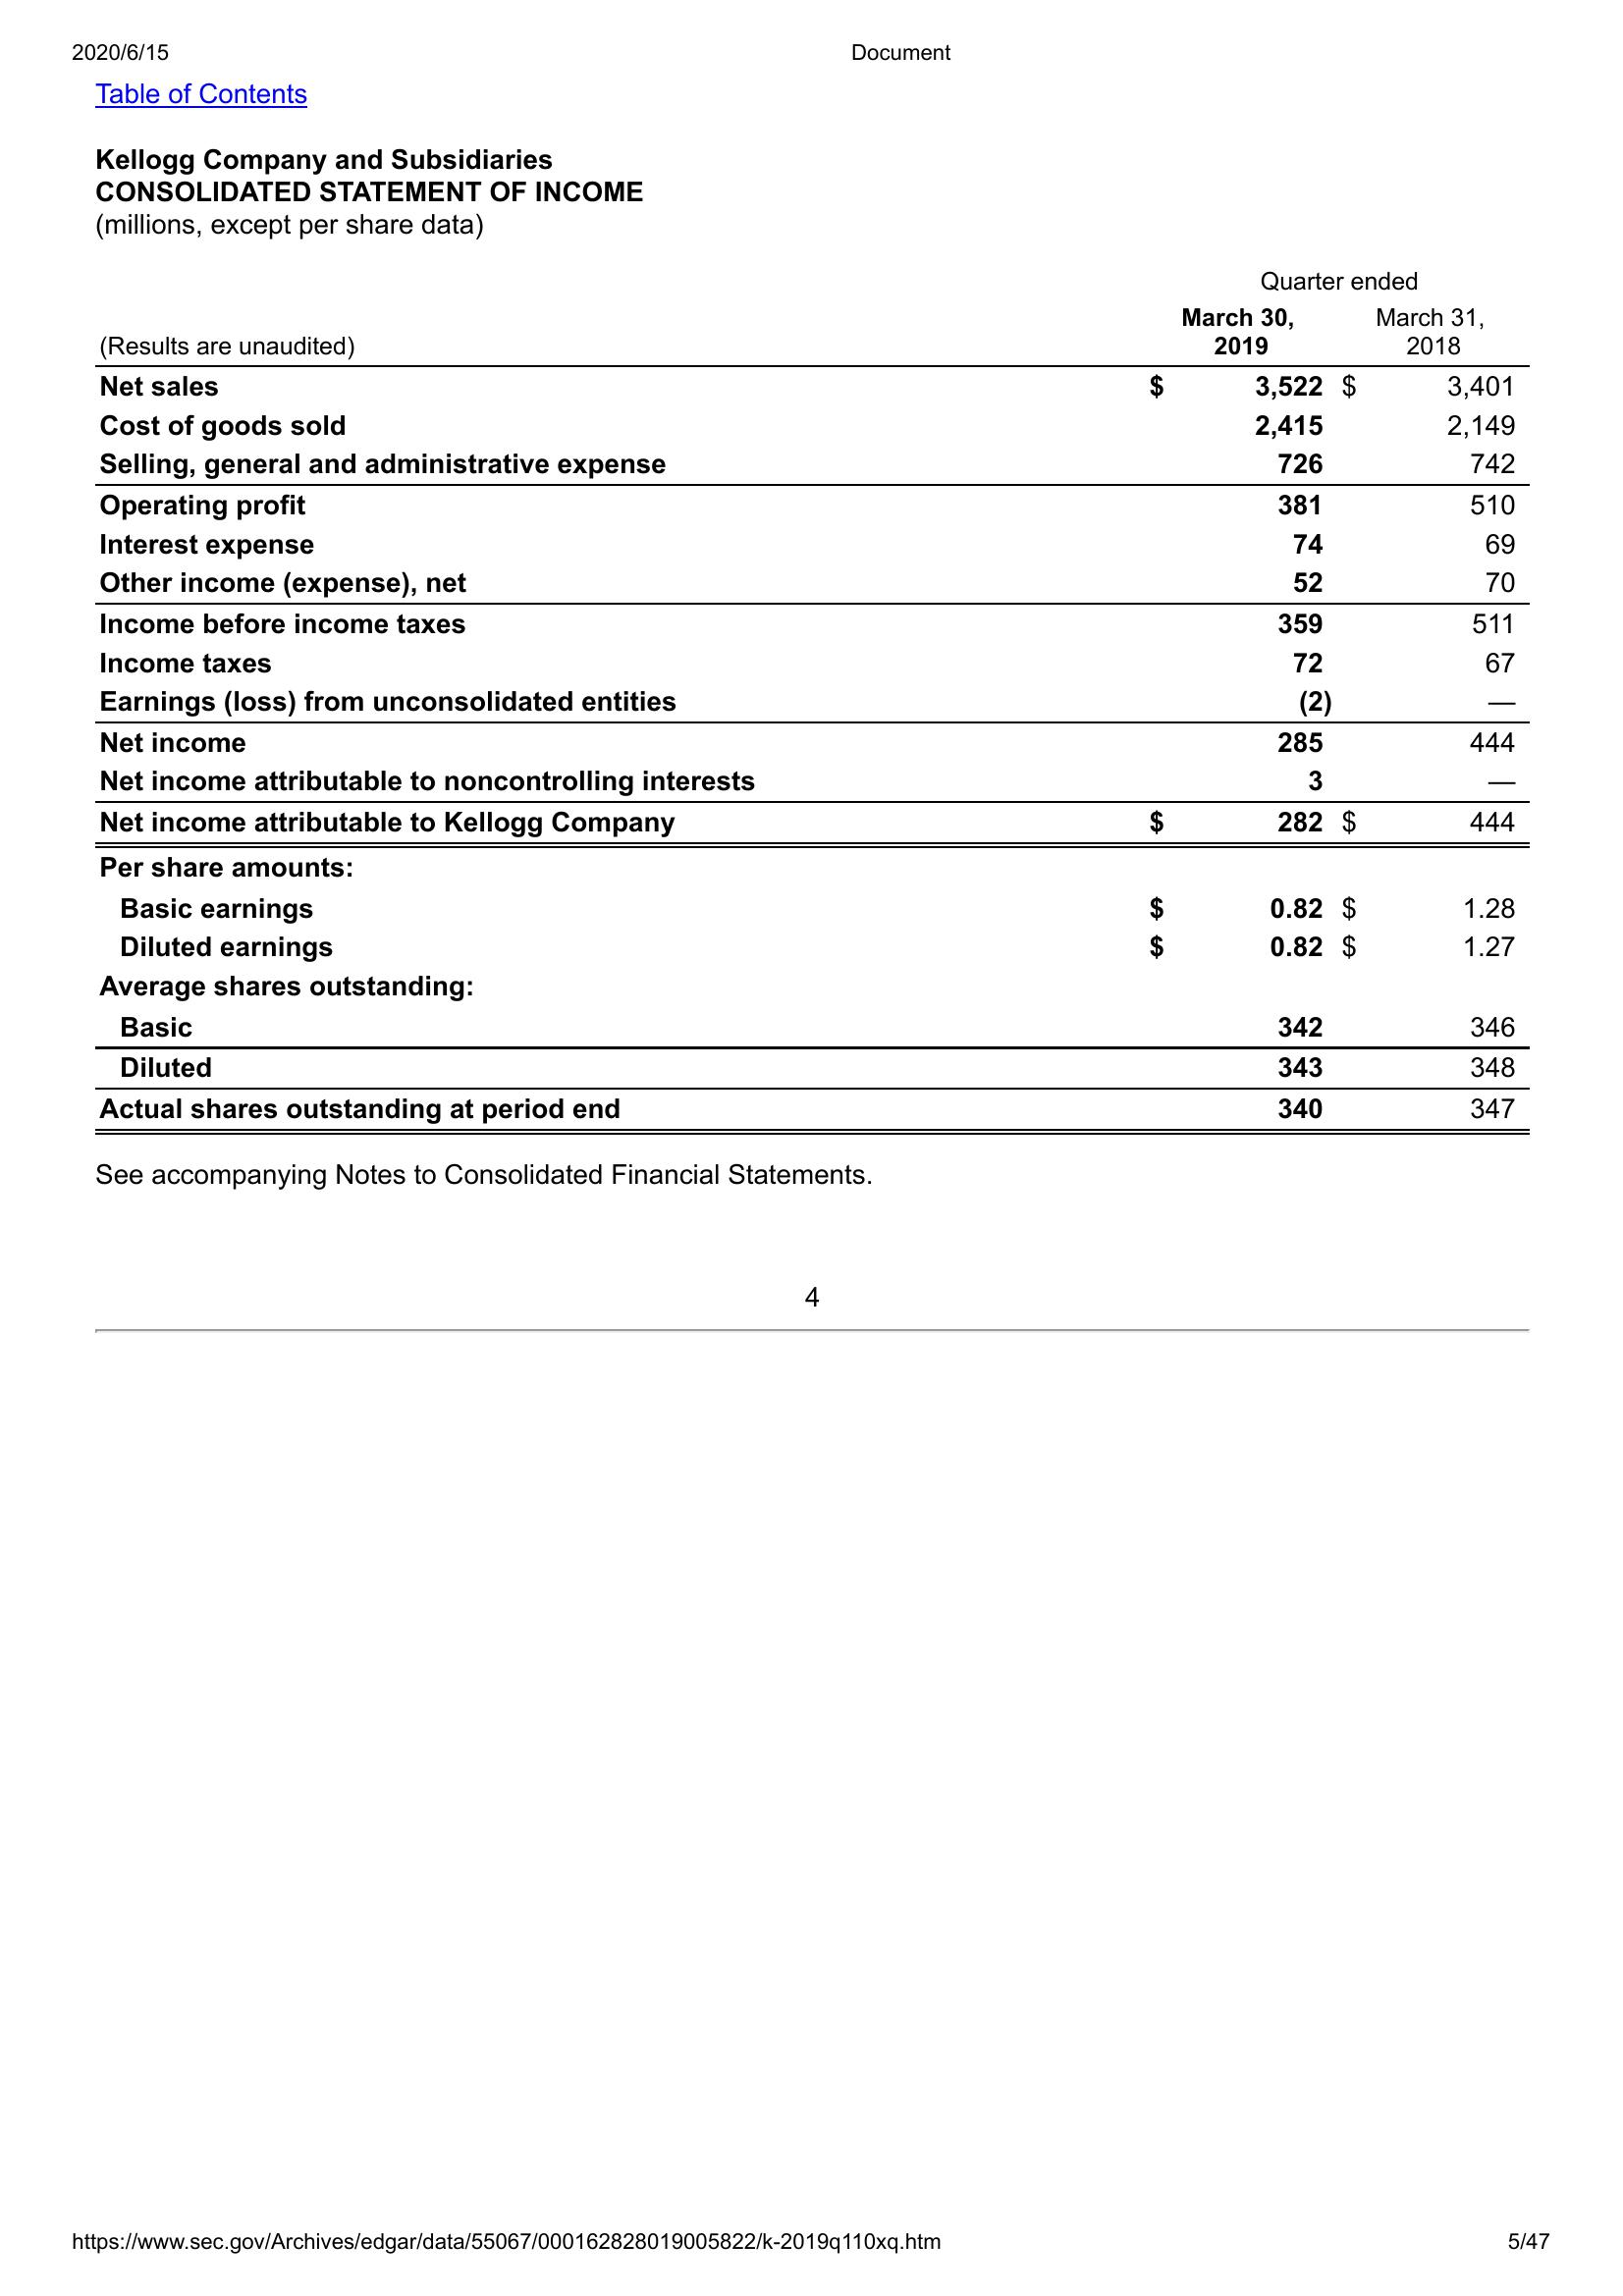table: (95, 263, 1537, 1141)
